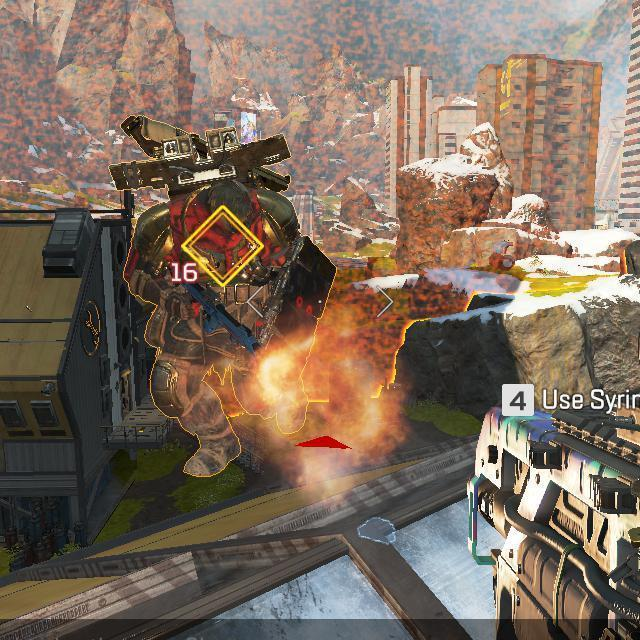avatar: (120, 177, 340, 480)
object: (179, 202, 266, 291)
